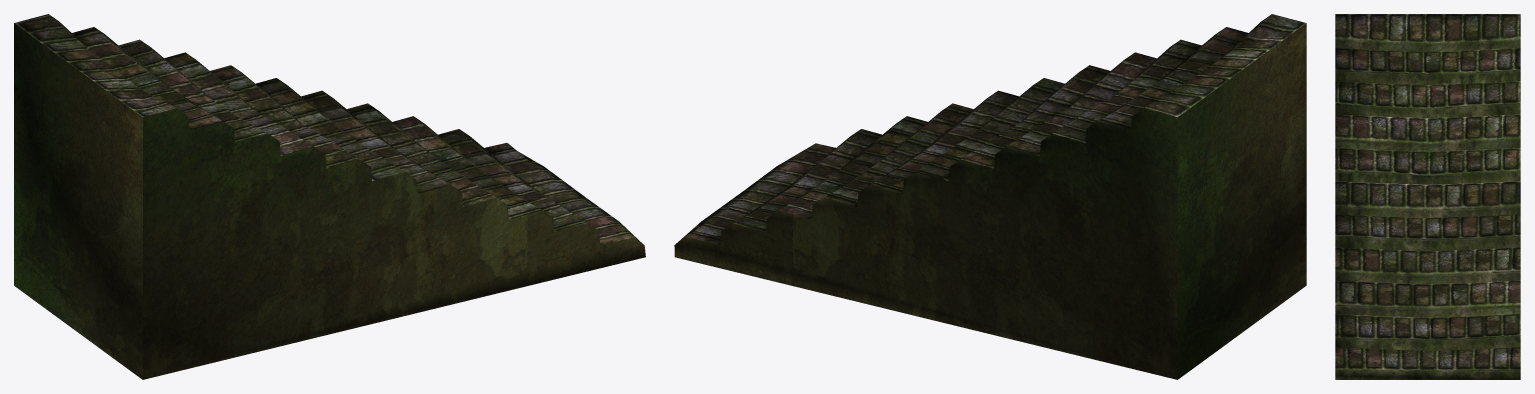
File: brick.DAE
3 renders of one model, left to right at view 1: azimuth 30°, elevation 25°; view 2: azimuth 150°, elevation 25°; view 3: azimuth 270°, elevation 25°, orthographic. The views are drawn at different scales.
Visible parts, largest first — view 1: stone; view 2: stone; view 3: stone.
Part boxes in pixels (x1,y1,x2,y2): stone: (14,14,645,379); stone: (674,14,1306,379); stone: (1335,14,1520,379).
Size of the model in its own units: 4.01 by 1.78 by 2.01.
